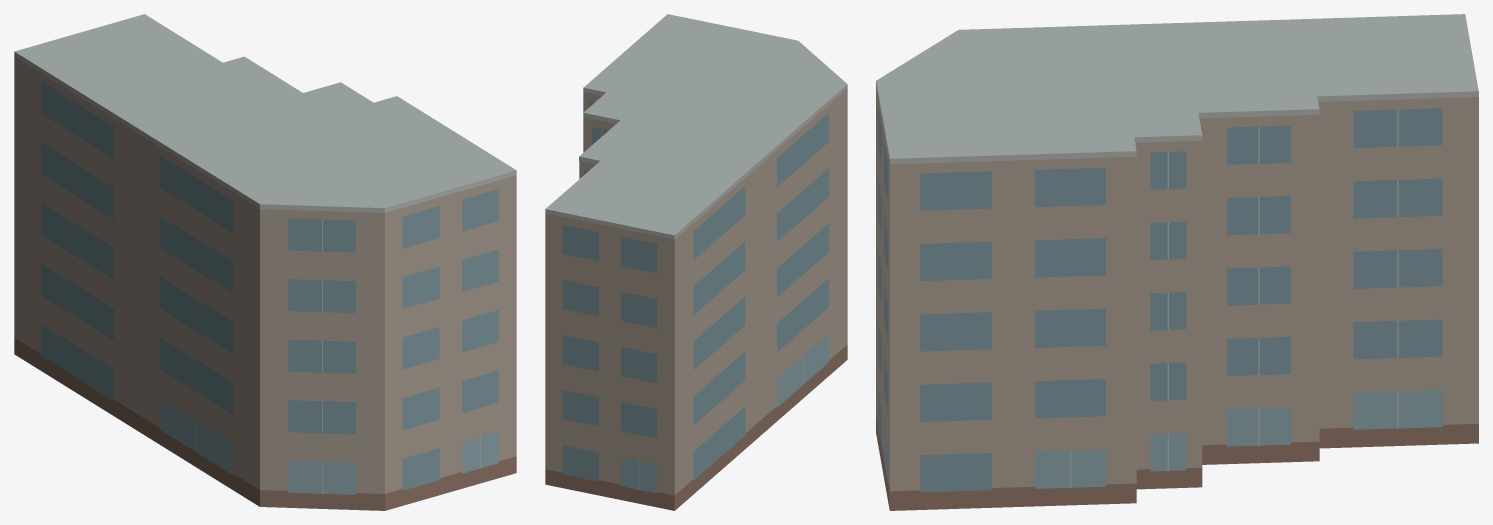
File: survey-upis-32636507.glb
The picture shows the model from 3 angles, left to right: view 1: azimuth 30°, elevation 25°; view 2: azimuth 150°, elevation 25°; view 3: azimuth 270°, elevation 25°; orthographic projection. The views are drawn at different scales.
Parts seen in each view (by area): view 1: survey-upis-32636507.tmp; view 2: survey-upis-32636507.tmp; view 3: survey-upis-32636507.tmp.
Part boxes in pixels (x1,y1,x2,y2): survey-upis-32636507.tmp: (14,14,516,510); survey-upis-32636507.tmp: (545,14,847,510); survey-upis-32636507.tmp: (876,14,1478,510).
Bounding box in the file's own units: 13.59 × 15.4 × 23.9.
